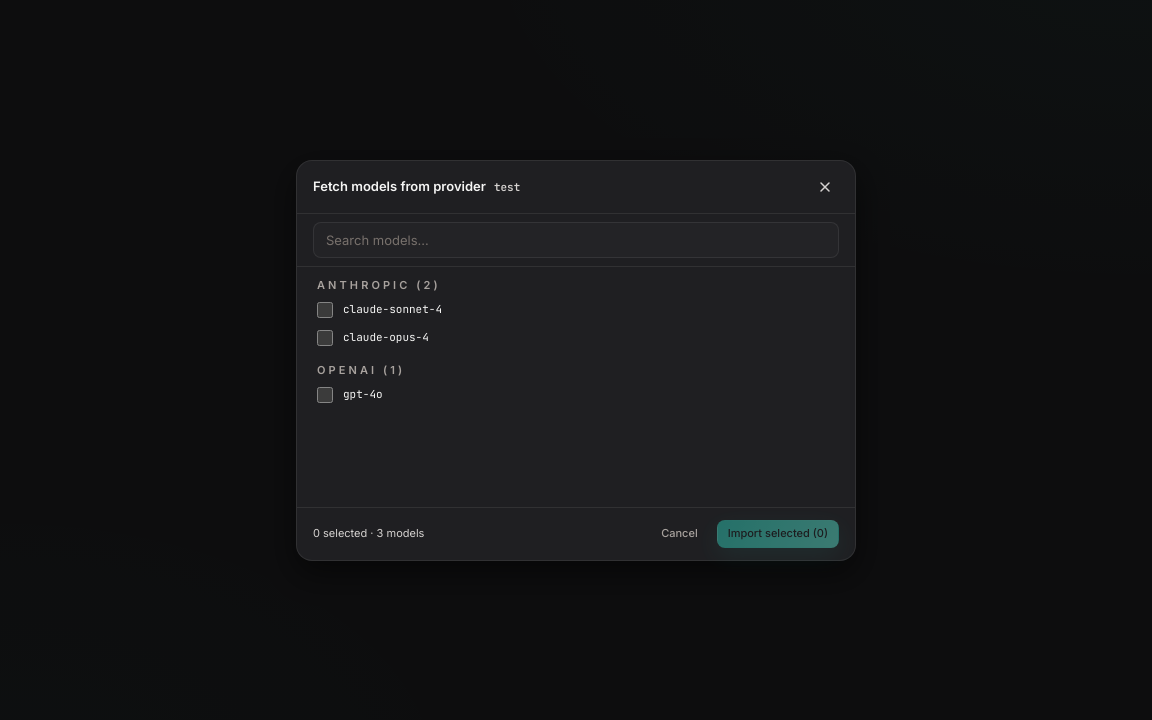
Test: FetchModelsModal › filters models by search query
Expected: the text "claude-sonnet-4" is shown, [343, 303, 442, 316]
Type "gpt" into the field with placeholder "Search models…" at (576, 240), box [313, 222, 839, 258]
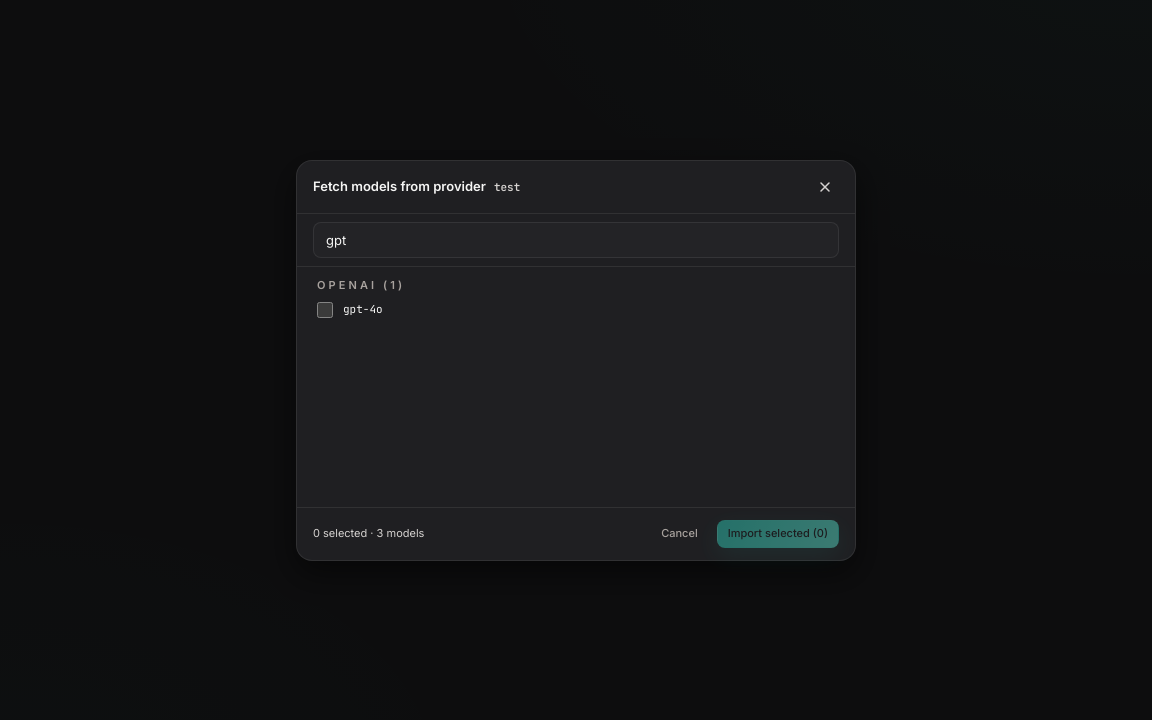
Expected: the text "gpt-4o" is shown, [343, 303, 383, 316]
Expected: the text "claude-sonnet-4" is gone
